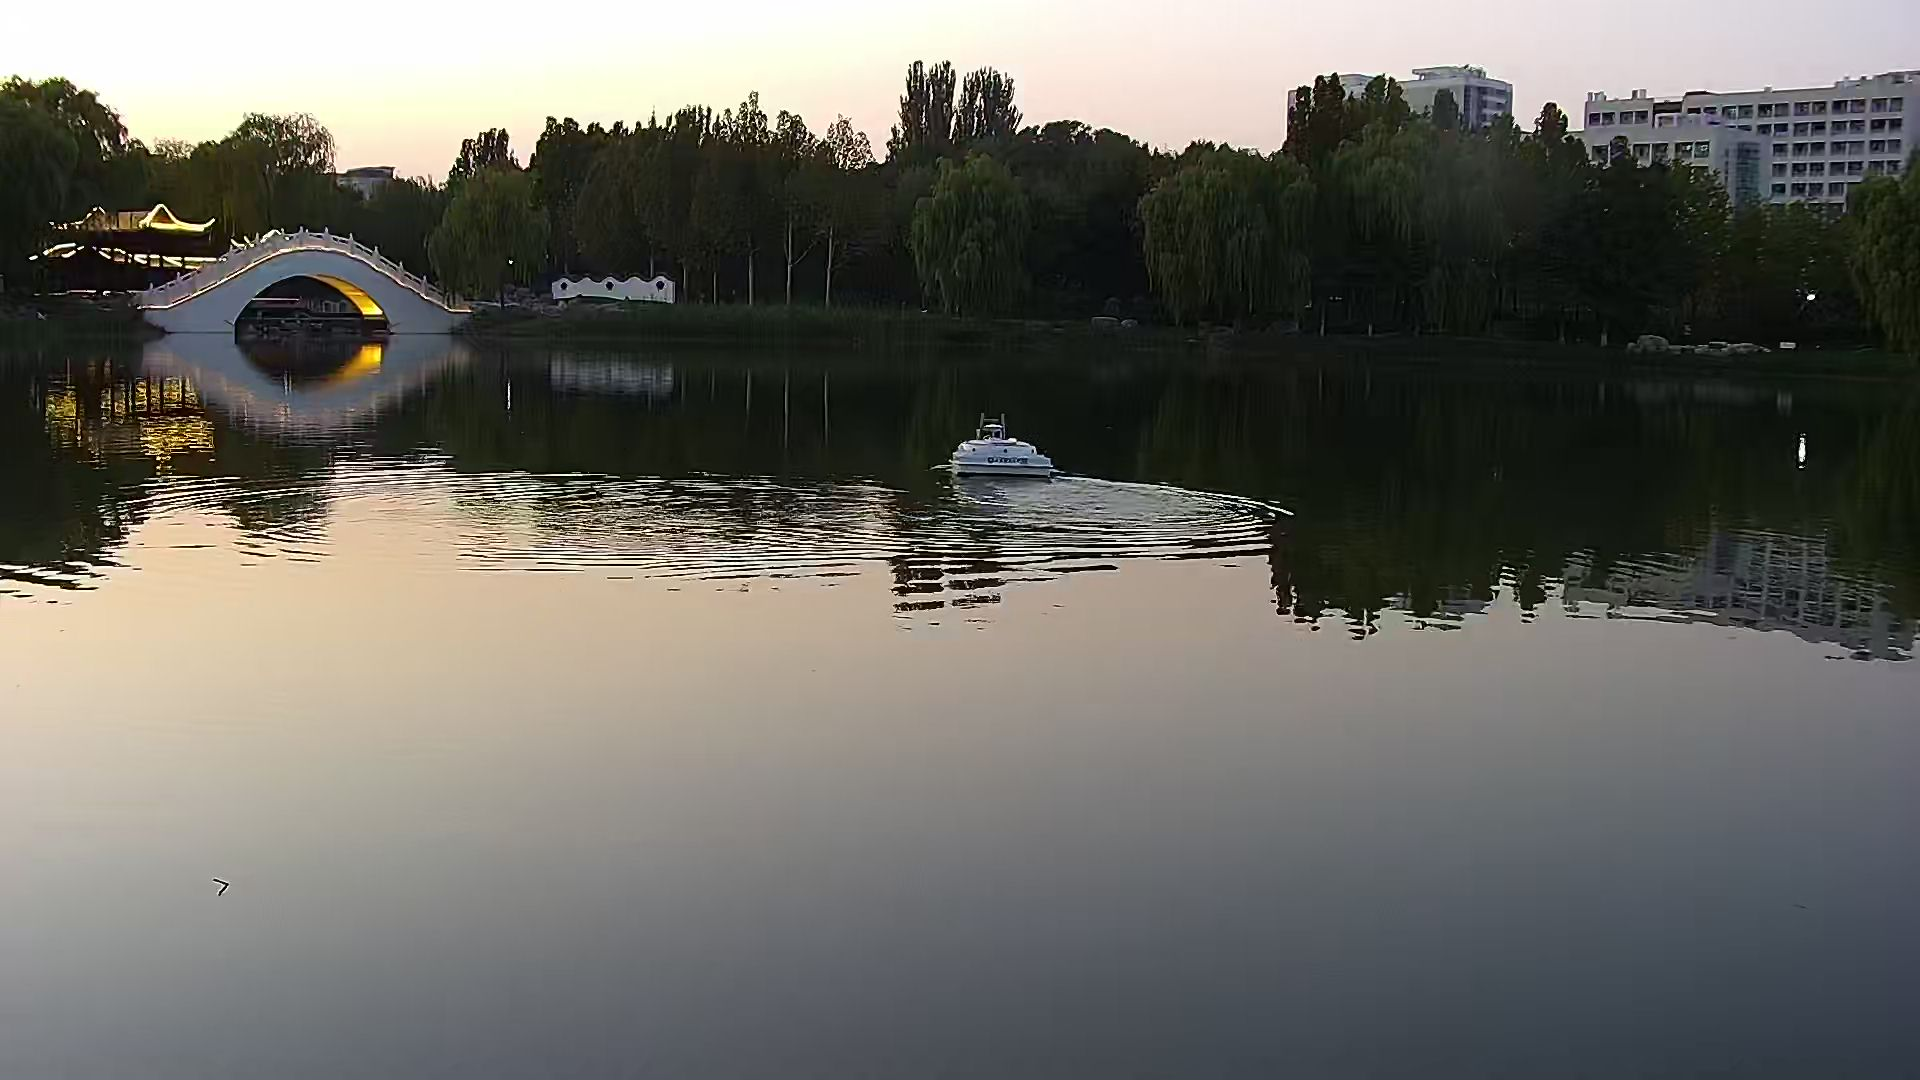boat: (942, 404, 1055, 483)
bridge: (142, 231, 462, 336)
rock: (1625, 323, 1768, 363)
